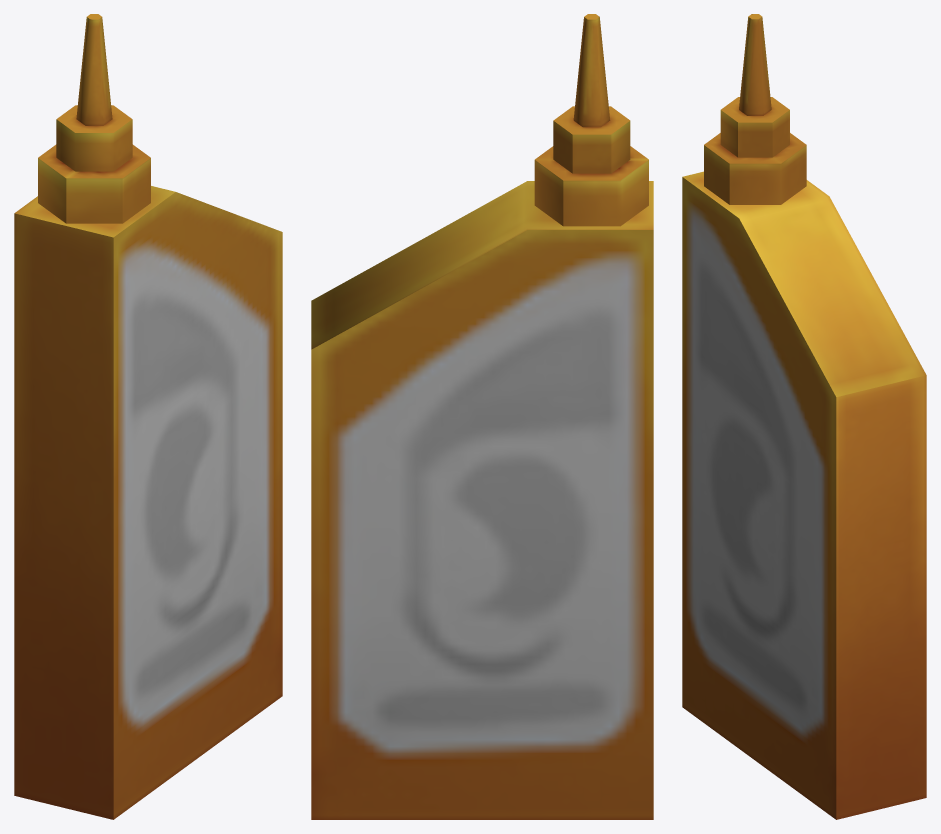
File: G_DanShenHan_jiyou_01.FBX
The picture shows the model from 3 angles, left to right: view 1: azimuth 30°, elevation 25°; view 2: azimuth 150°, elevation 25°; view 3: azimuth 270°, elevation 25°; orthographic projection. The views are drawn at different scales.
Parts seen in each view (by area): view 1: DanShenHan_jiyou_01; view 2: DanShenHan_jiyou_01; view 3: DanShenHan_jiyou_01.
Boxes of the visible parts, x1=… form: DanShenHan_jiyou_01: x1=14, y1=14, x2=282, y2=819; DanShenHan_jiyou_01: x1=311, y1=14, x2=653, y2=819; DanShenHan_jiyou_01: x1=682, y1=14, x2=926, y2=819.
Size of the model in its own units: 16.84 by 40.78 by 12.9.
